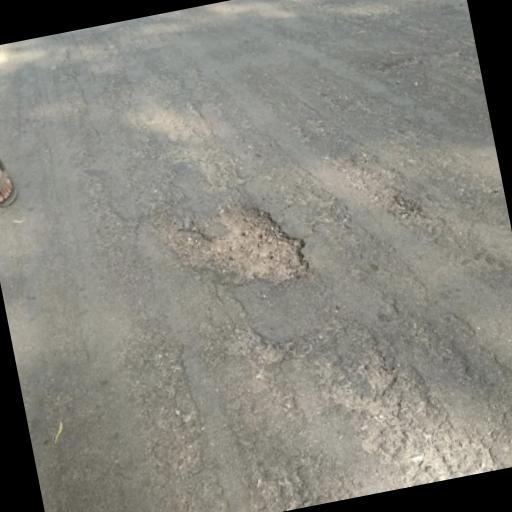pothole: (154, 189, 318, 309)
